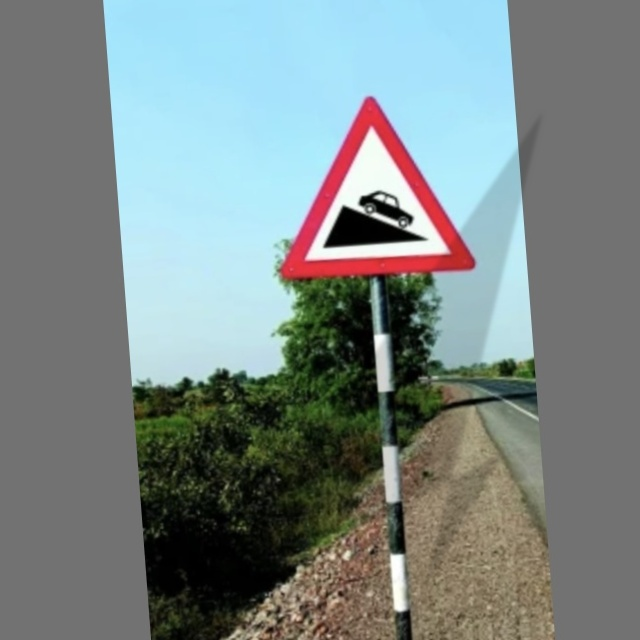Steep_Descent: (273, 89, 475, 287)
